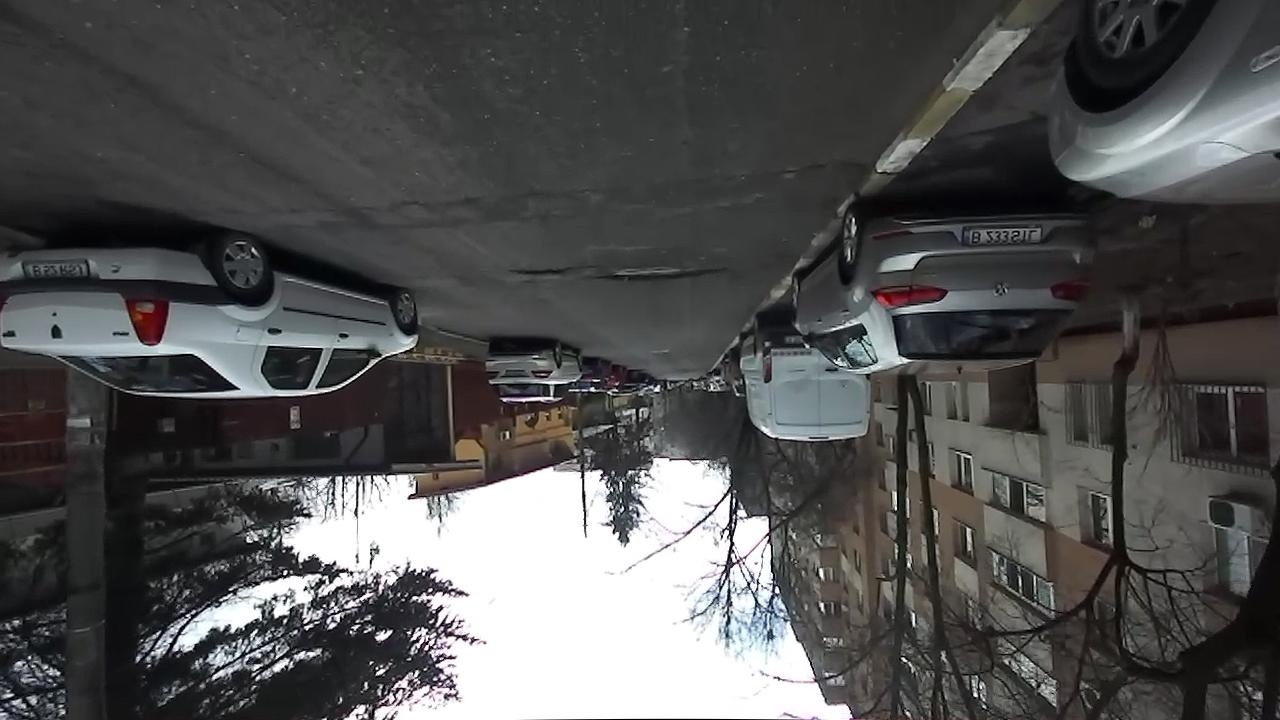pothole: (591, 262, 731, 285), (776, 153, 861, 178), (505, 266, 578, 282)
